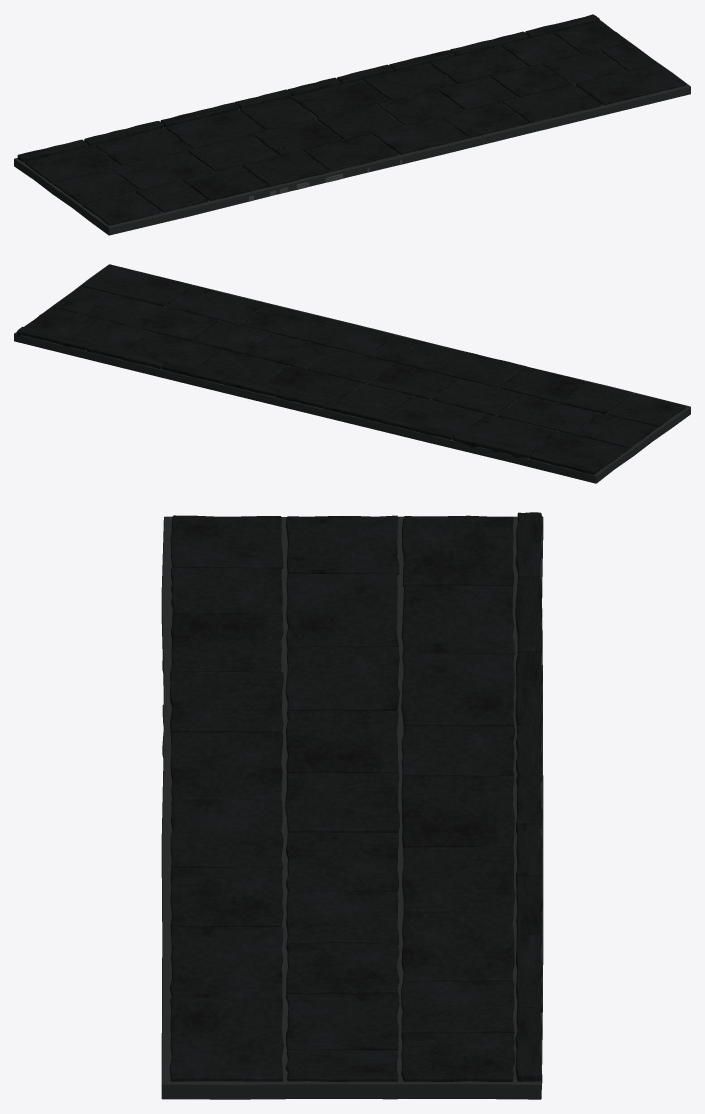
File: terrace-v008.glb
3 renders of one model, top to bottom at view 1: azimuth 30°, elevation 25°; view 2: azimuth 150°, elevation 25°; view 3: azimuth 270°, elevation 25°, orthographic. The views are drawn at different scales.
Visible parts, largest first — view 1: v008 | damp fractured basalt consolidated, v008 | damp recessed lime joints consolidated; view 2: v008 | damp fractured basalt consolidated, v008 | damp recessed lime joints consolidated; view 3: v008 | damp fractured basalt consolidated, v008 | damp recessed lime joints consolidated.
Boxes of the visible parts, <box> form: v008 | damp fractured basalt consolidated: <box>17,14,686,225</box>; v008 | damp recessed lime joints consolidated: <box>14,20,690,235</box>; v008 | damp fractured basalt consolidated: <box>17,264,686,474</box>; v008 | damp recessed lime joints consolidated: <box>14,264,690,483</box>; v008 | damp fractured basalt consolidated: <box>169,512,542,1083</box>; v008 | damp recessed lime joints consolidated: <box>161,516,543,1099</box>.
Size of the model in its own units: 47.06 by 0.879 by 13.37.
3 materials, 1 textured.
